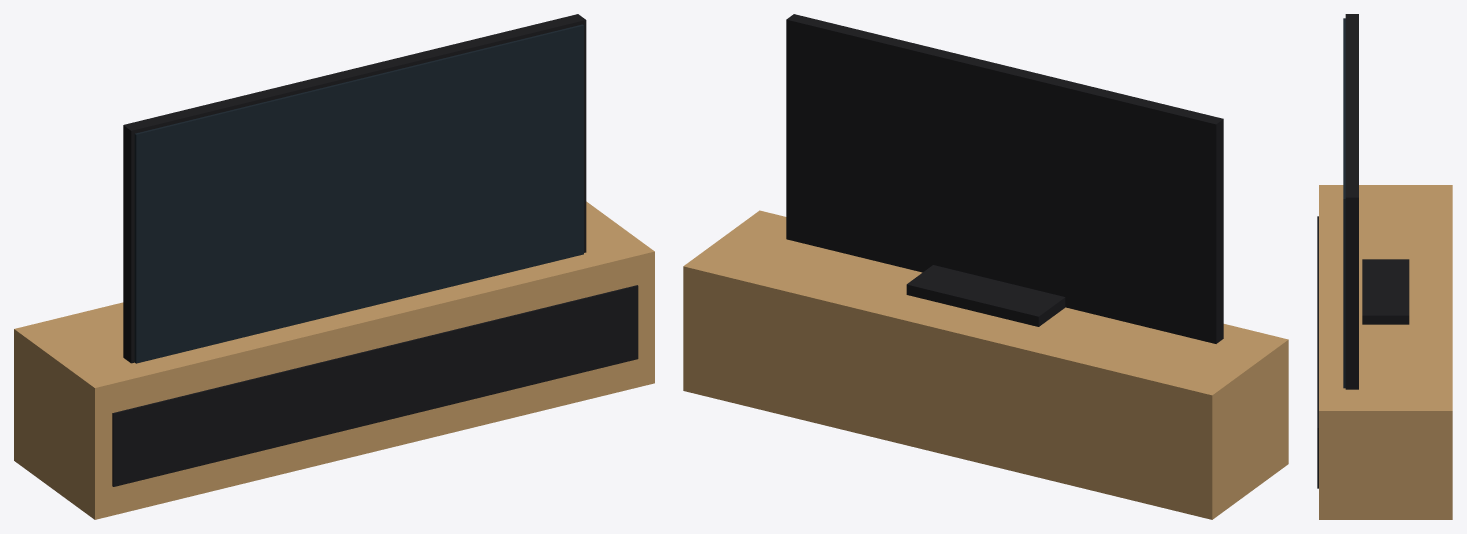
The model's file is GD_TV_Flat_Modern_01.glb.
The picture shows the model from 3 angles, left to right: view 1: azimuth 30°, elevation 25°; view 2: azimuth 150°, elevation 25°; view 3: azimuth 270°, elevation 25°; orthographic projection. The views are drawn at different scales.
Visible parts, largest first — view 1: GD_TV_Flat_Modern_01; view 2: GD_TV_Flat_Modern_01; view 3: GD_TV_Flat_Modern_01.
Boxes of the visible parts, bbox=[...] form: GD_TV_Flat_Modern_01: bbox=[14, 14, 654, 519]; GD_TV_Flat_Modern_01: bbox=[683, 14, 1288, 519]; GD_TV_Flat_Modern_01: bbox=[1317, 14, 1452, 519].
Bounding box in the file's own units: 1.6 × 0.995 × 0.405.
1 material, 1 textured.
